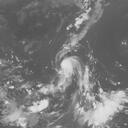cyclone: (51, 39, 91, 92)
